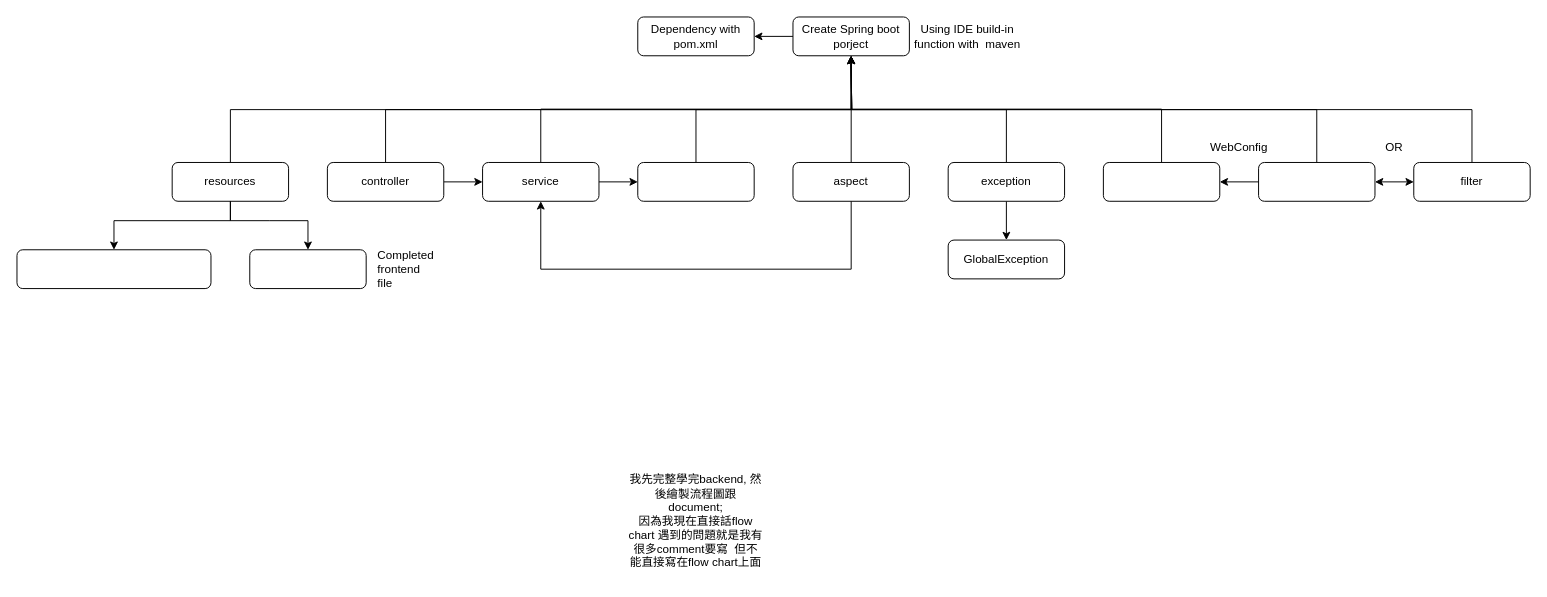
Some shapes in this 1547 by 597 pixel diagram are drawn without their labels. Here are the shapes that lost their labels. From the top down, the centre of each, then its label:
At point 695,181: "repository/mapper".
At point 1161,181: "config".
At point 1316,181: "interceptor".
At point 113,269: "com.zanewnch.fullproject.mapper".
At point 307,269: "static".
